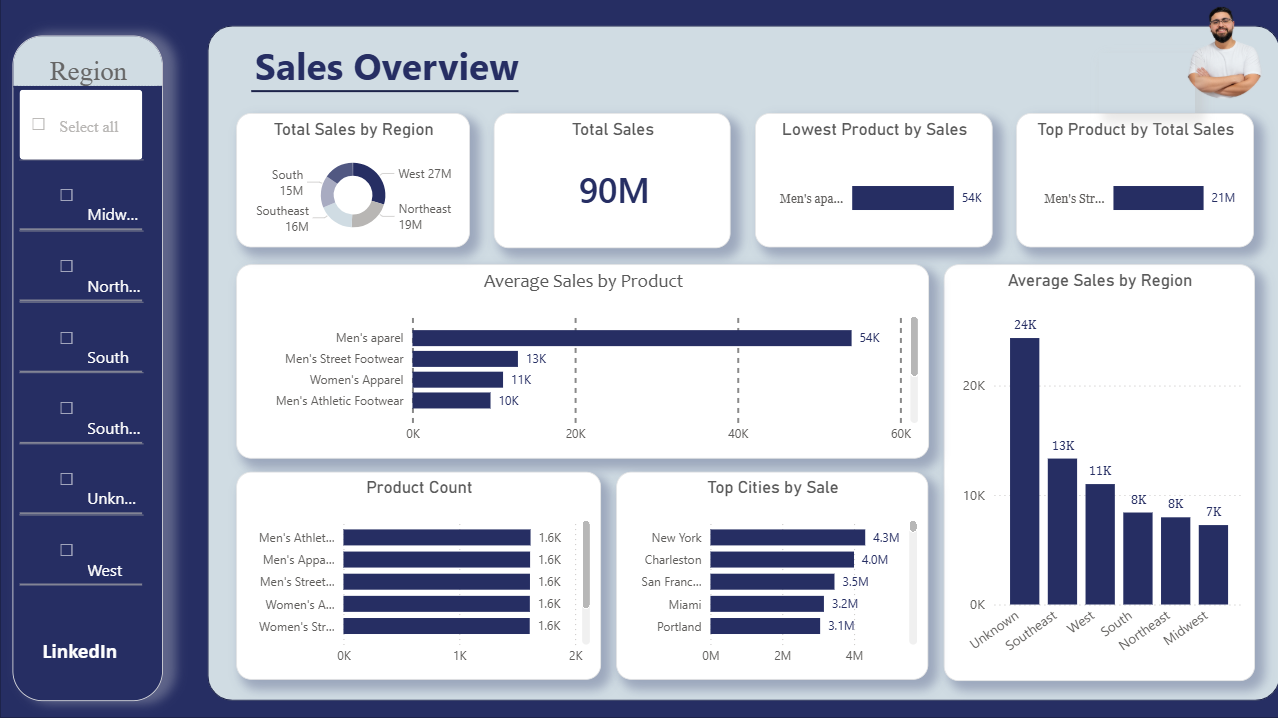

The dashboard page shown, as its layout file describes it:
{"tool":"powerbi","page":{"name":"Sales Overview","canvas":[1280,720],"ordinal":0},"visuals":[{"type":"shape","box":[0,0,1280,720],"z":0},{"type":"shape","box":[207.8,27.3,1072.7,675.3],"z":1000},{"type":"cardVisual","title":"Total Sales","fields":{"Data":["Sum(cleaned_retail_sales.Total Sales)"]},"box":[494.2,115,236.8,135],"z":2000},{"type":"clusteredColumnChart","title":"Average Sales by Region","fields":{"Category":["cleaned_retail_sales.Region"],"Y":["Avg(cleaned_retail_sales.Total Sales)"]},"box":[943.2,266.1,311.1,416.7],"z":3000},{"type":"clusteredBarChart","title":"Average Sales by Product","fields":{"Category":["cleaned_retail_sales.Product"],"Y":["Avg(cleaned_retail_sales.Total Sales)"]},"box":[236,265.9,692.9,194.1],"z":4000},{"type":"clusteredBarChart","title":"Product Count","fields":{"Category":["cleaned_retail_sales.Product"],"Y":["CountNonNull(cleaned_retail_sales.Product)"]},"box":[236,474.1,364.7,208.2],"z":5000},{"type":"clusteredBarChart","title":"Top Product by Total Sales","fields":{"Category":["cleaned_retail_sales.Product"],"Y":["Sum(cleaned_retail_sales.Total Sales)"]},"box":[1016.8,114.7,237.5,134.7],"z":6000},{"type":"clusteredBarChart","title":"Lowest Product by Sales","fields":{"Category":["cleaned_retail_sales.Product"],"Y":["Sum(cleaned_retail_sales.Total Sales)"]},"box":[755.3,114.7,237.5,134.7],"z":7000},{"type":"clusteredBarChart","title":"Top Cities by Sale","fields":{"Category":["cleaned_retail_sales.city"],"Y":["Sum(cleaned_retail_sales.Total Sales)"]},"box":[616,474.1,311.8,208.2],"z":8000},{"type":"donutChart","title":"Total Sales by Region","fields":{"Category":["cleaned_retail_sales.Region"],"Y":["Sum(cleaned_retail_sales.Total Sales)"]},"box":[236.3,114.7,233.3,134.7],"z":9000},{"type":"advancedSlicerVisual","title":"Region","fields":{"Values":["cleaned_retail_sales.Region"]},"box":[12,37.5,150,665.3],"z":10000},{"type":"textbox","box":[250,38,678,76],"z":11000},{"type":"shape","box":[251.2,85,267.5,16.2],"z":12000},{"type":"image","box":[1169.2,9,110.6,92.5],"z":13000},{"type":"textbox","box":[1098.7,55.1,96.2,60.3],"z":14000},{"type":"textbox","box":[37.5,635,93.8,47.5],"z":15000}]}

Visuals, with their boxes in screenshot pixels (x1, y1, x2, y2), scaled from the page's 1280x720 canvas onto the 1278x718 screenshot:
shape: pyautogui.locateOnScreen(0, 0, 1277, 717)
shape: pyautogui.locateOnScreen(207, 27, 1277, 701)
"Total Sales" cardVisual: pyautogui.locateOnScreen(493, 115, 730, 249)
"Average Sales by Region" clusteredColumnChart: pyautogui.locateOnScreen(942, 265, 1252, 681)
"Average Sales by Product" clusteredBarChart: pyautogui.locateOnScreen(236, 265, 927, 459)
"Product Count" clusteredBarChart: pyautogui.locateOnScreen(236, 473, 600, 680)
"Top Product by Total Sales" clusteredBarChart: pyautogui.locateOnScreen(1015, 114, 1252, 249)
"Lowest Product by Sales" clusteredBarChart: pyautogui.locateOnScreen(754, 114, 991, 249)
"Top Cities by Sale" clusteredBarChart: pyautogui.locateOnScreen(615, 473, 926, 680)
"Total Sales by Region" donutChart: pyautogui.locateOnScreen(236, 114, 469, 249)
"Region" advancedSlicerVisual: pyautogui.locateOnScreen(12, 37, 162, 701)
textbox: pyautogui.locateOnScreen(250, 38, 927, 114)
shape: pyautogui.locateOnScreen(251, 85, 518, 101)
image: pyautogui.locateOnScreen(1167, 9, 1277, 101)
textbox: pyautogui.locateOnScreen(1097, 55, 1193, 115)
textbox: pyautogui.locateOnScreen(37, 633, 131, 681)
